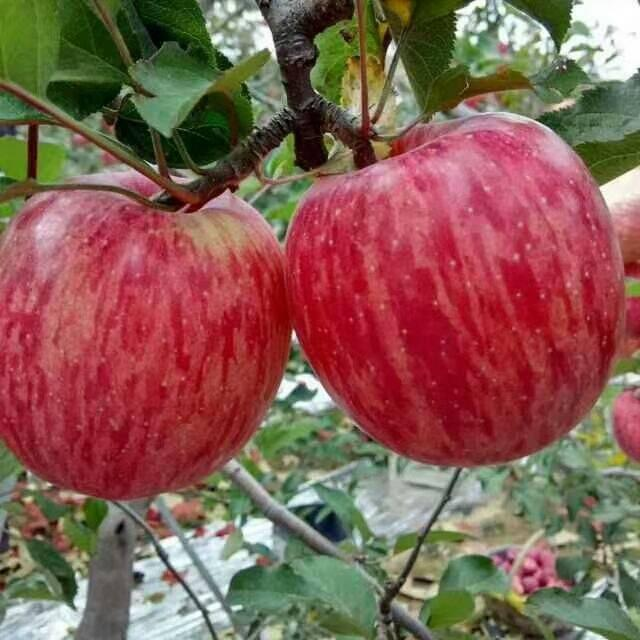apple: (282, 109, 625, 463), (1, 174, 292, 500)
